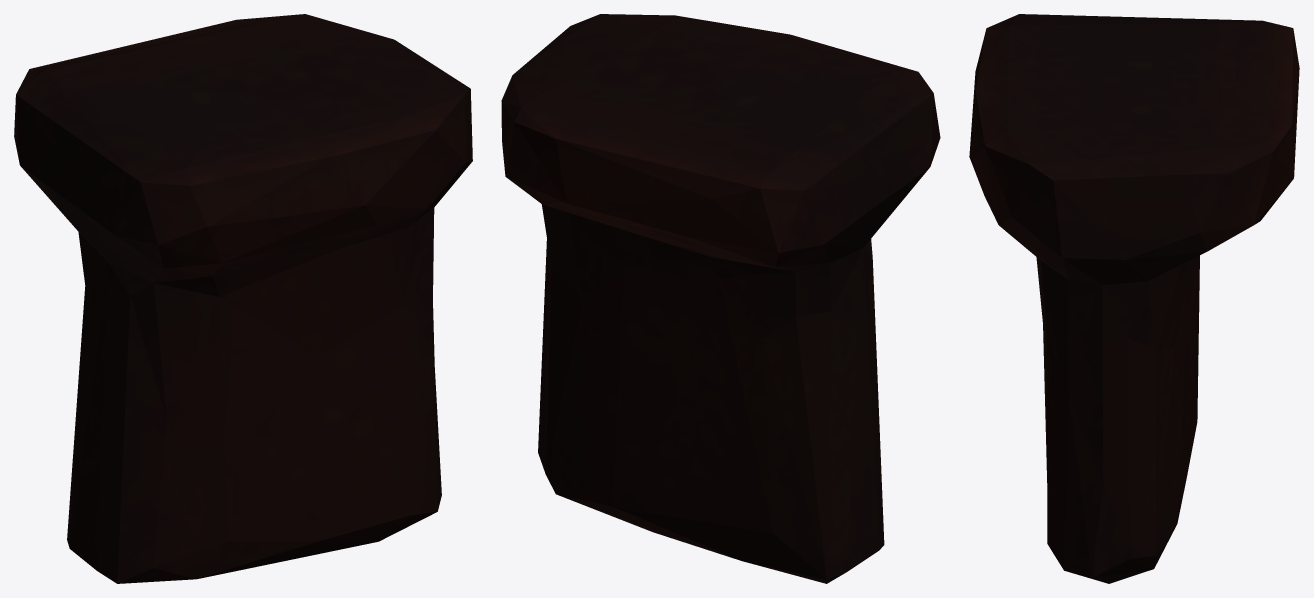
3 views of the same model, side by side, from view 1: azimuth 30°, elevation 25°; view 2: azimuth 150°, elevation 25°; view 3: azimuth 270°, elevation 25° (orthographic). The views are drawn at different scales.
Visible parts, largest first — view 1: geometry_0.033_Baked; view 2: geometry_0.033_Baked; view 3: geometry_0.033_Baked.
Part boxes in pixels (x1,y1,x2,y2): geometry_0.033_Baked: (14,14,472,583); geometry_0.033_Baked: (501,14,940,583); geometry_0.033_Baked: (969,14,1299,583).
Bounding box in the file's own units: 7.25 × 8.58 × 5.9.
